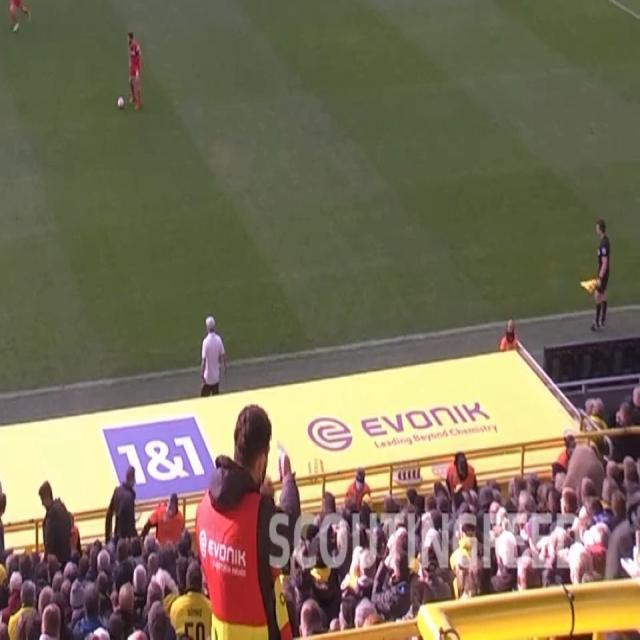ball: (117, 96, 125, 110)
